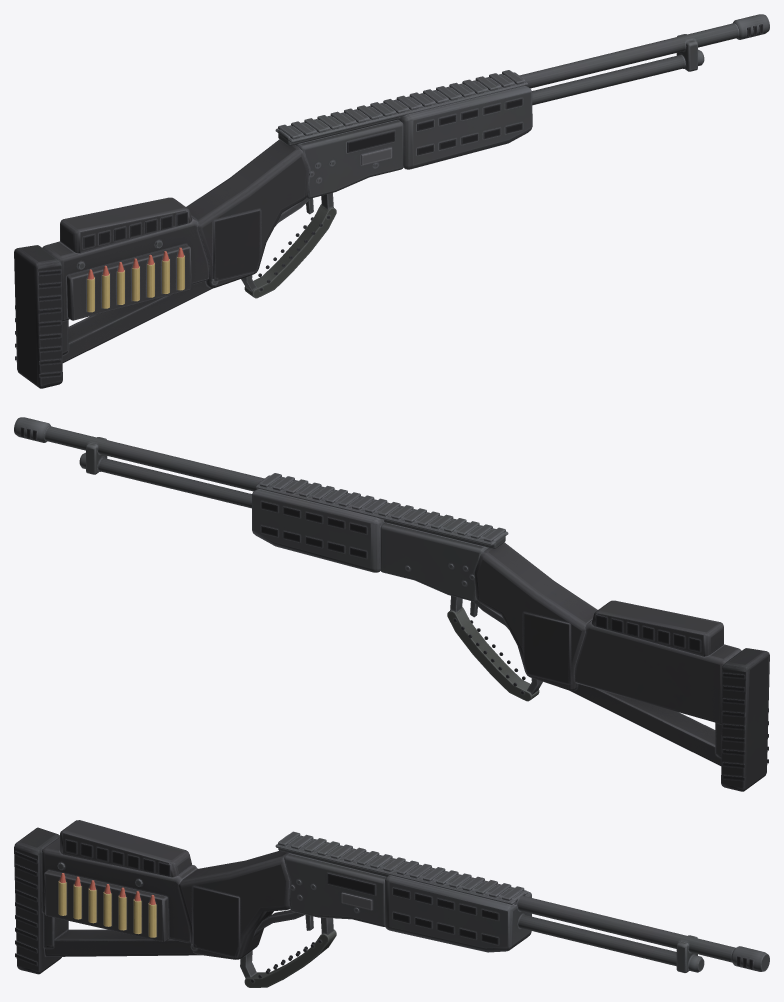
Rendered from AT_Marlin336.fbx.
The picture shows the model from 3 angles, top to bottom: view 1: azimuth 30°, elevation 25°; view 2: azimuth 150°, elevation 25°; view 3: azimuth 330°, elevation 25°; orthographic projection.
Visible parts, largest first — view 1: AT_Marlin336; view 2: AT_Marlin336; view 3: AT_Marlin336.
Boxes of the visible parts, x1,y1,x2,y2 form: AT_Marlin336: (14, 14, 769, 388); AT_Marlin336: (14, 417, 769, 791); AT_Marlin336: (14, 820, 769, 987).
Bounding box in the file's own units: 0.541 × 0.1316 × 0.0358.
1 material, 1 textured.
